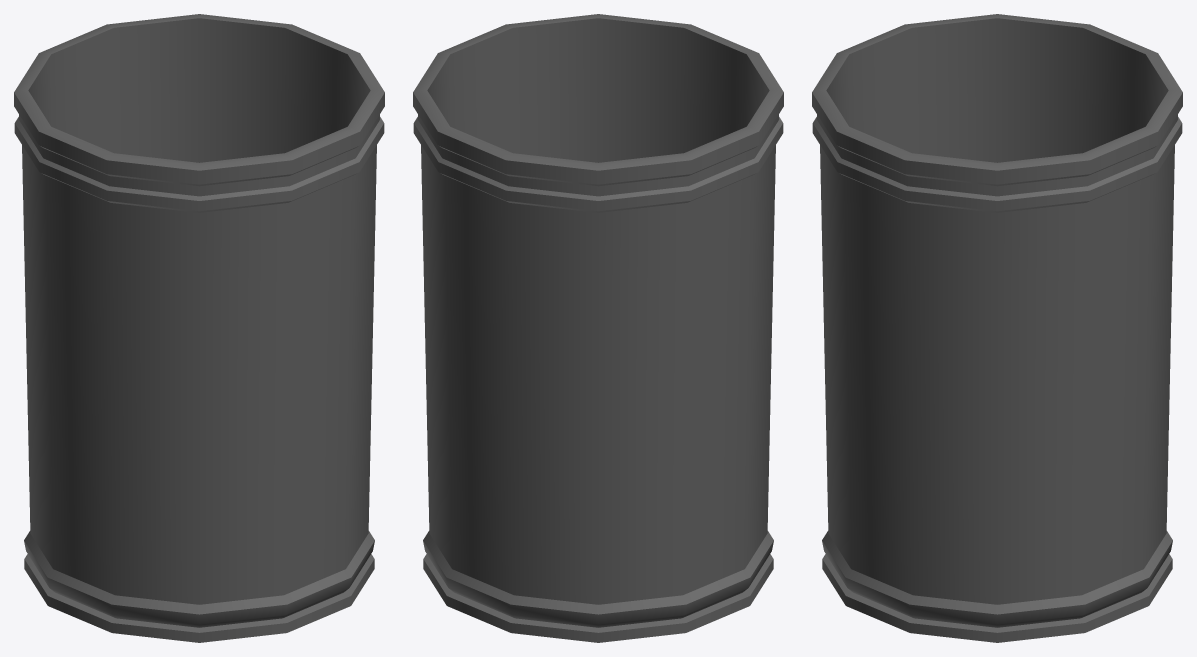
File: Trashcan_Cylindric.glb
3 views of the same model, side by side, from view 1: azimuth 30°, elevation 25°; view 2: azimuth 150°, elevation 25°; view 3: azimuth 270°, elevation 25° (orthographic).
Parts seen in each view (by area): view 1: Trashcan_Cylindric; view 2: Trashcan_Cylindric; view 3: Trashcan_Cylindric.
Part boxes in pixels (bbox=[...]): Trashcan_Cylindric: bbox=[14, 14, 384, 642]; Trashcan_Cylindric: bbox=[413, 14, 783, 642]; Trashcan_Cylindric: bbox=[812, 14, 1182, 642].
Bounding box in the file's own units: 0.369 × 0.5252 × 0.369.
1 material, 1 textured.
